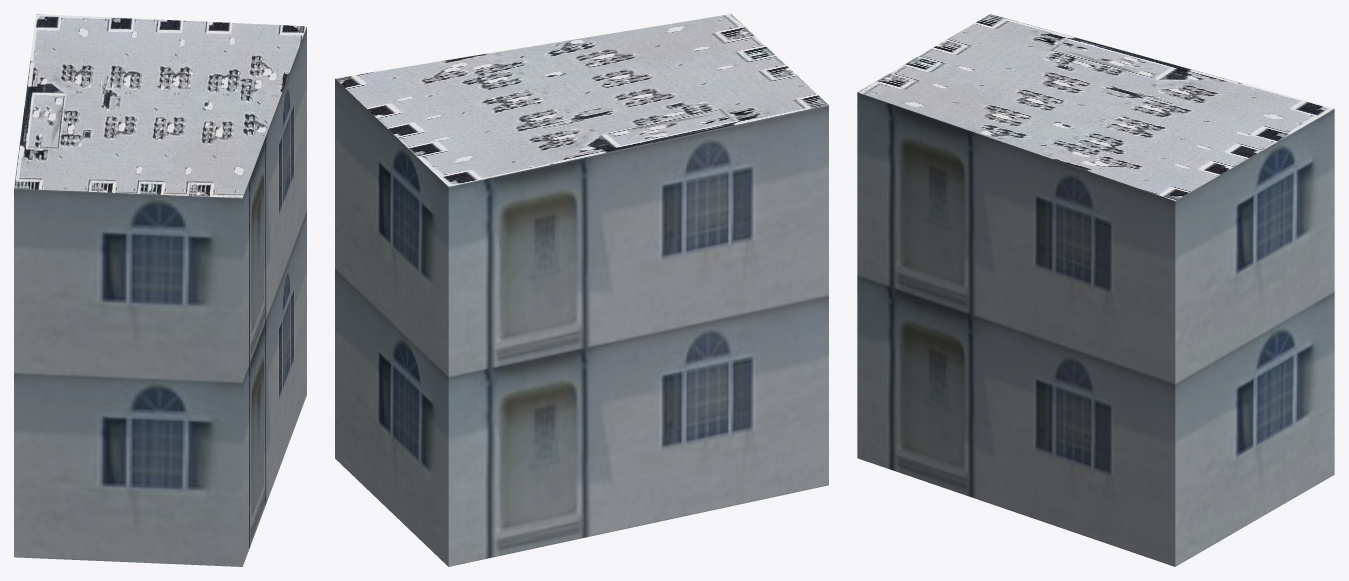
The model's file is ResTex__314.fbx.
The picture shows the model from 3 angles, left to right: view 1: azimuth 30°, elevation 25°; view 2: azimuth 150°, elevation 25°; view 3: azimuth 270°, elevation 25°; orthographic projection. The views are drawn at different scales.
Parts seen in each view (by area): view 1: CityEngineMaterial_17_m, CityEngineMaterial_4_m; view 2: CityEngineMaterial_17_m, CityEngineMaterial_4_m; view 3: CityEngineMaterial_17_m, CityEngineMaterial_4_m.
Part boxes in pixels (x1,y1,x2,y2): CityEngineMaterial_17_m: (14, 27, 306, 566); CityEngineMaterial_4_m: (14, 14, 306, 198); CityEngineMaterial_17_m: (335, 79, 828, 566); CityEngineMaterial_4_m: (335, 14, 828, 186); CityEngineMaterial_17_m: (857, 92, 1334, 566); CityEngineMaterial_4_m: (858, 14, 1334, 200).
Bounding box in the file's own units: 6.57 × 6 × 7.09.
Materials: 2 (2 with a texture image).
